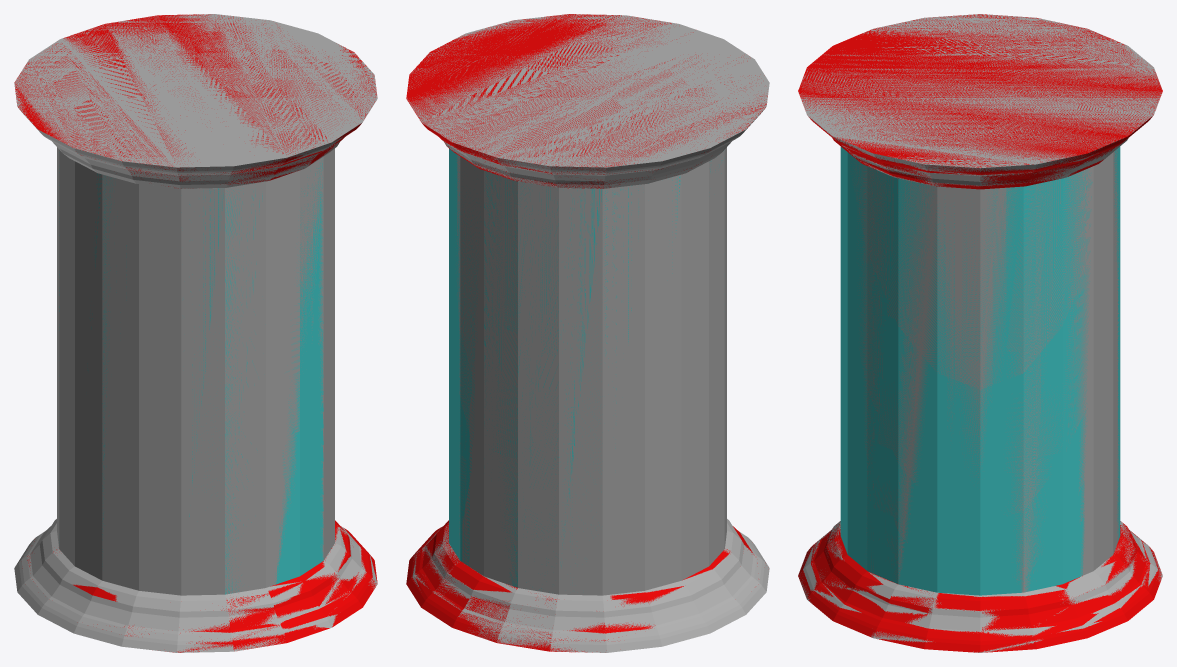
File: LANTERN.fbx
3 renders of one model, left to right at view 1: azimuth 30°, elevation 25°; view 2: azimuth 150°, elevation 25°; view 3: azimuth 270°, elevation 25°, orthographic.
Visible parts, largest first — view 1: LANTERN, LANTERN1; view 2: LANTERN, LANTERN1; view 3: LANTERN, LANTERN1.
Boxes of the visible parts, x1,y1,x2,y2 form: LANTERN: (14, 14, 377, 652); LANTERN1: (14, 14, 377, 652); LANTERN: (407, 14, 769, 652); LANTERN1: (406, 14, 767, 652); LANTERN: (798, 14, 1162, 652); LANTERN1: (798, 14, 1162, 652).
Size of the model in its own units: 7.95 by 11.66 by 7.95.
